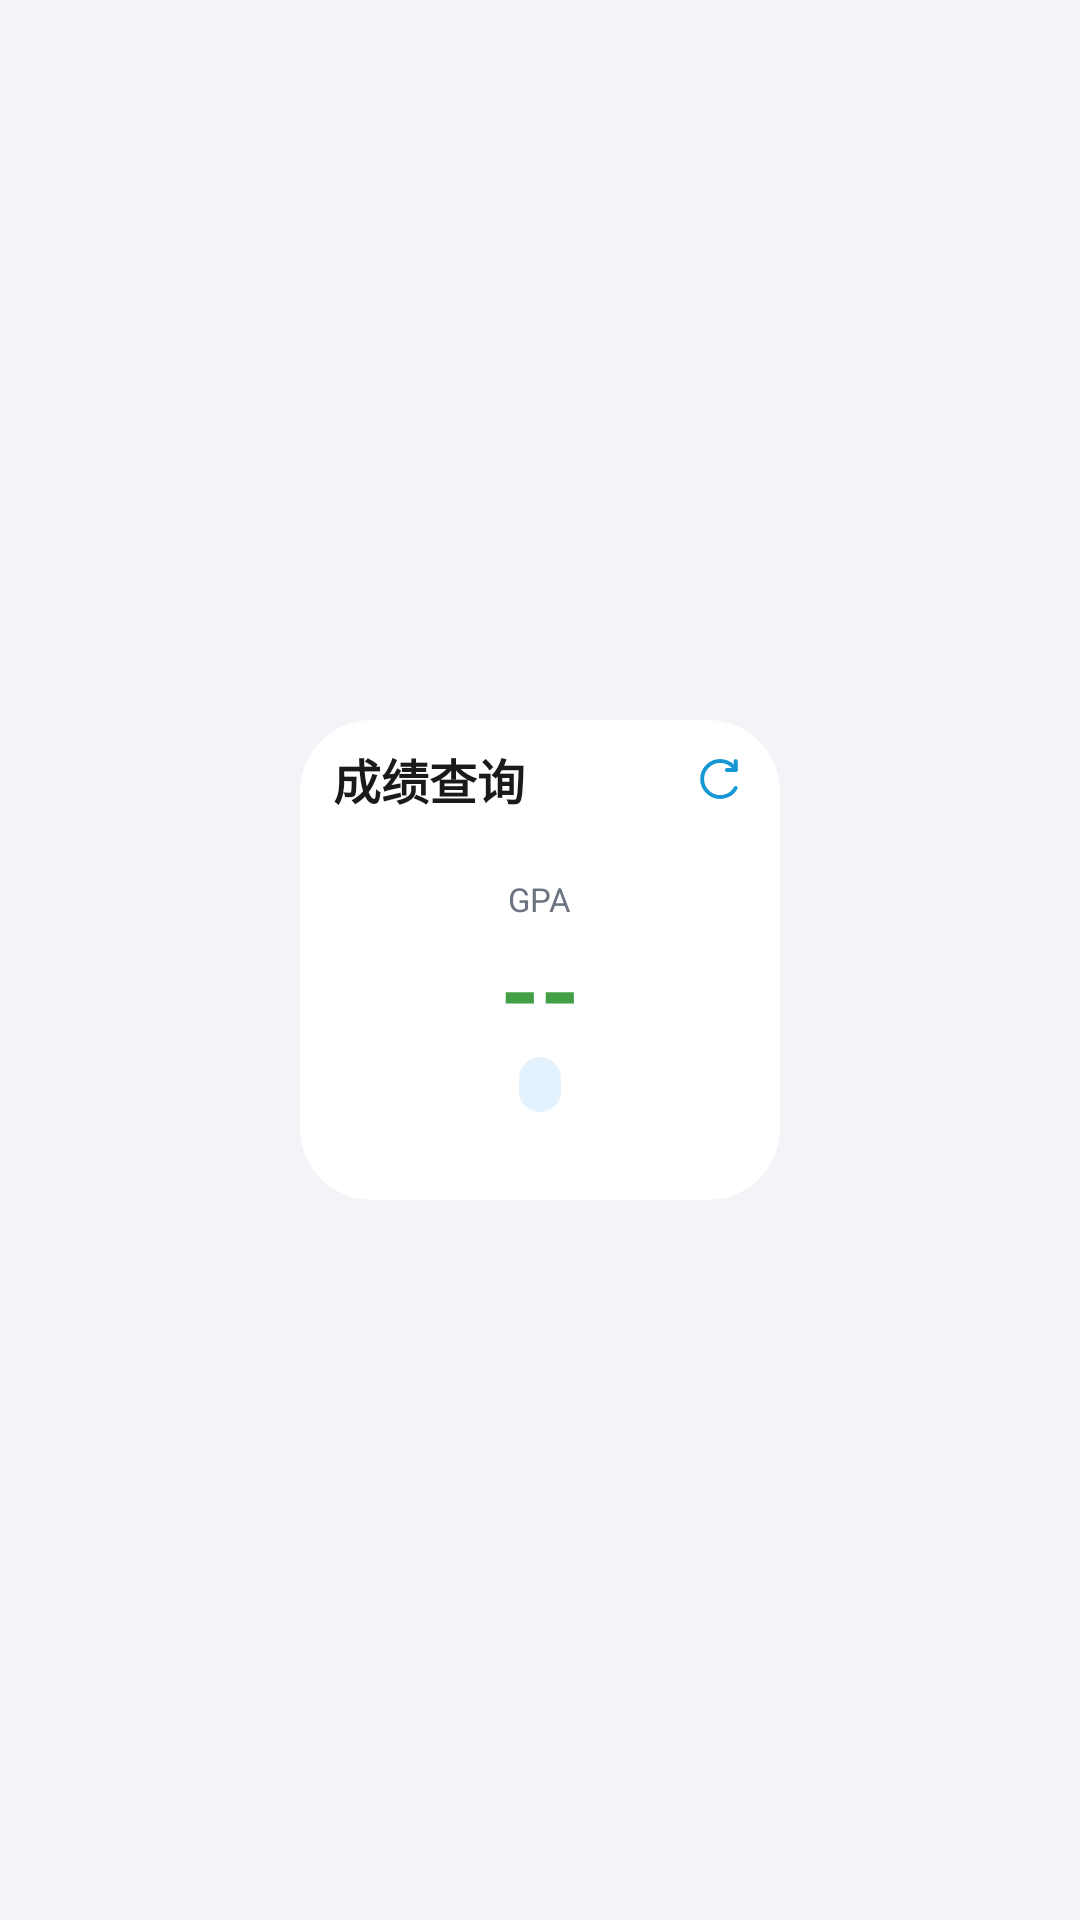

Locate icon controls on the screen. Image size 1080×1920, boxes as (x1, y1, x2, y2).
刷新成绩: (700, 759, 738, 799)
